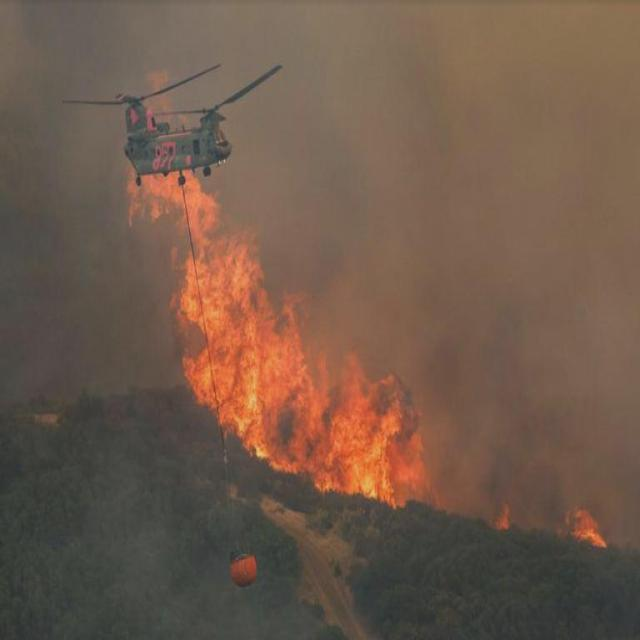Fire: (136, 146, 404, 476)
Smoke: (418, 44, 640, 479), (6, 34, 108, 572)
